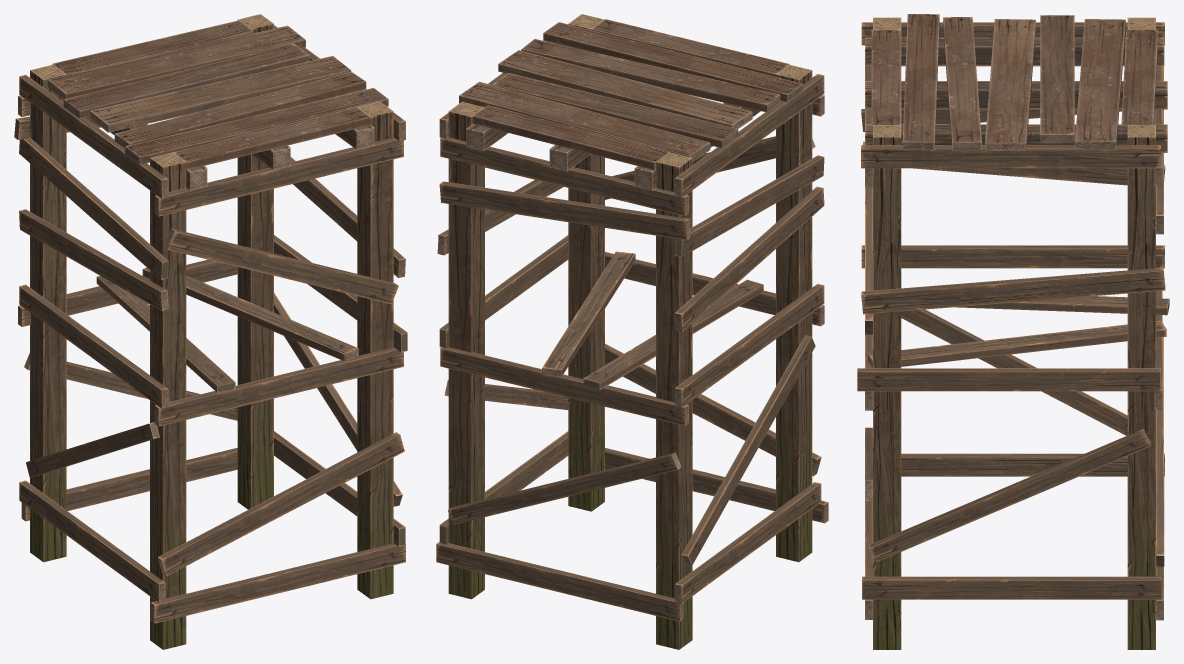
Rendered from tower_bottom_6m_A.fbx.
3 views of the same model, side by side, from view 1: azimuth 30°, elevation 25°; view 2: azimuth 150°, elevation 25°; view 3: azimuth 270°, elevation 25° (orthographic). The views are drawn at different scales.
Visible parts, largest first — view 1: tower_bottom_6m_A; view 2: tower_bottom_6m_A; view 3: tower_bottom_6m_A.
Boxes of the visible parts, x1,y1,x2,y2 form: tower_bottom_6m_A: (14,14,407,649); tower_bottom_6m_A: (436,14,828,649); tower_bottom_6m_A: (857,14,1169,649).
Size of the model in its own units: 331 by 600 by 331.
